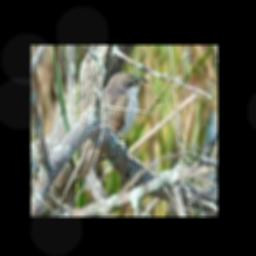Cuckoo: (68, 73, 149, 186)
